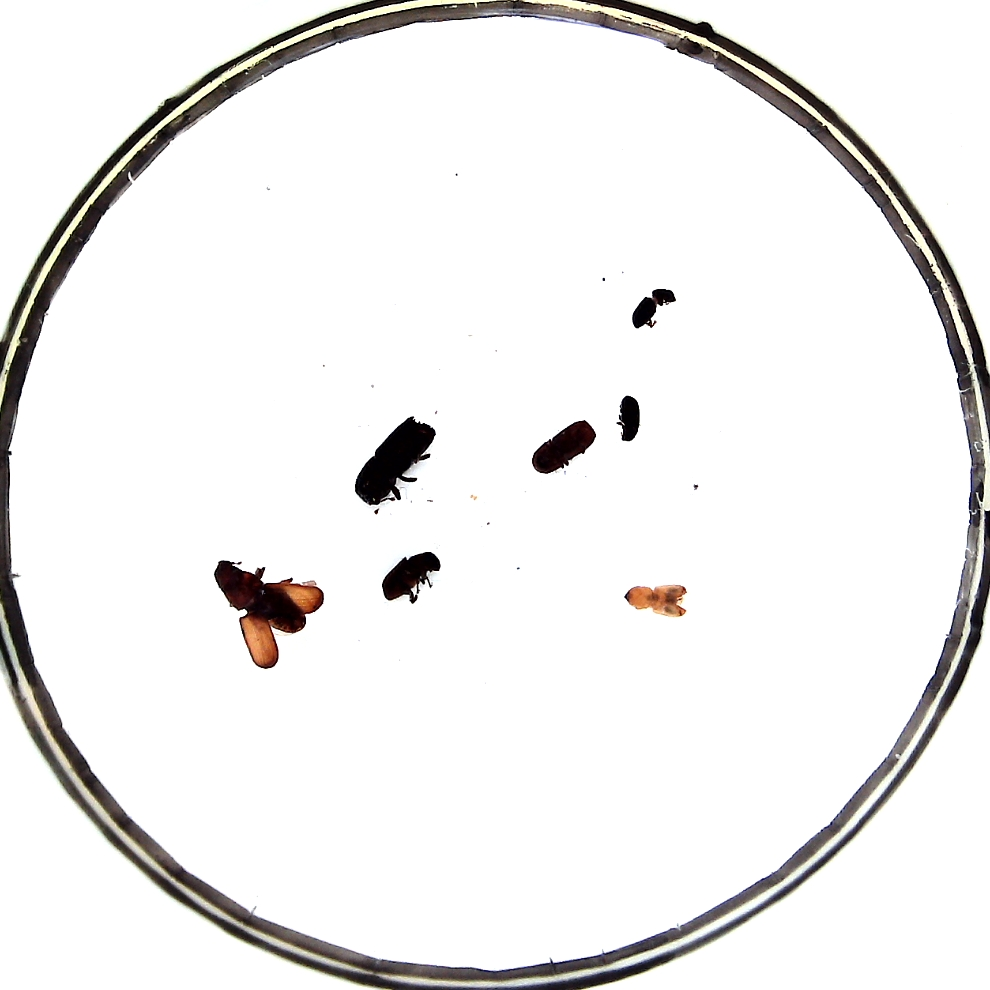Boerner: (354, 415, 436, 503)
Leconte: (214, 560, 307, 633)
acuminatus: (632, 289, 676, 328), (620, 394, 640, 441)
armandi: (382, 551, 441, 600)
coleoptera: (624, 585, 687, 617)
linnaeus: (531, 420, 596, 474)
